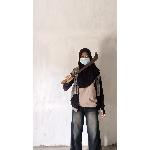Golok: (57, 48, 100, 86)
